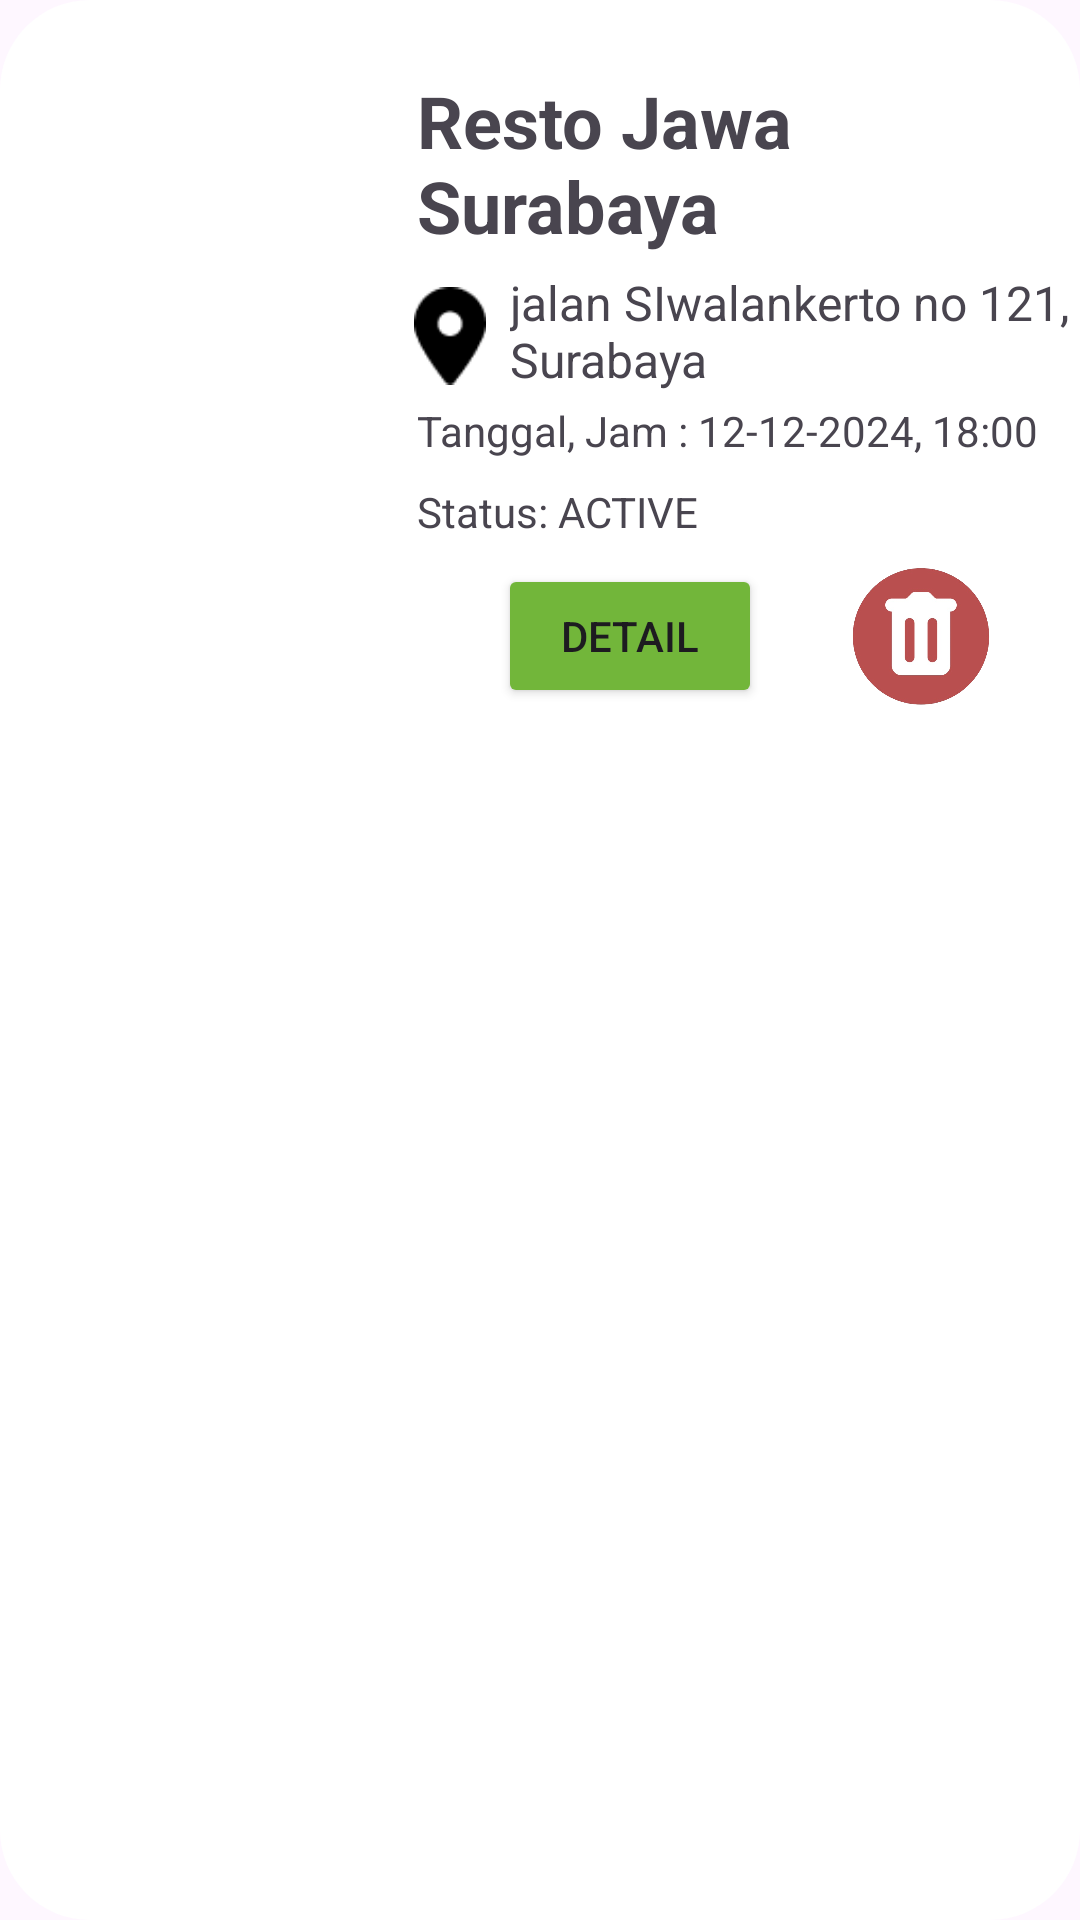

Icons on this 1080w x 1920h Android screen, each with its box as (x1, y1, x2, y2):
loc: (414, 287, 486, 385)
trash: (853, 568, 989, 705)
